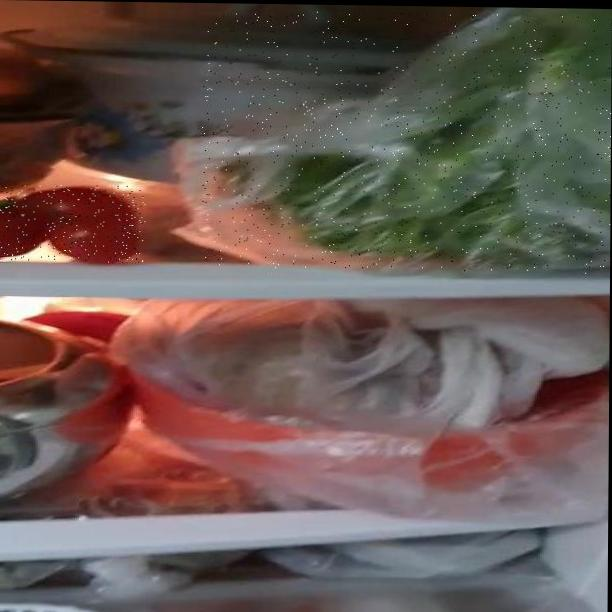lettuce: (201, 9, 612, 274)
tomato: (0, 184, 146, 262)
